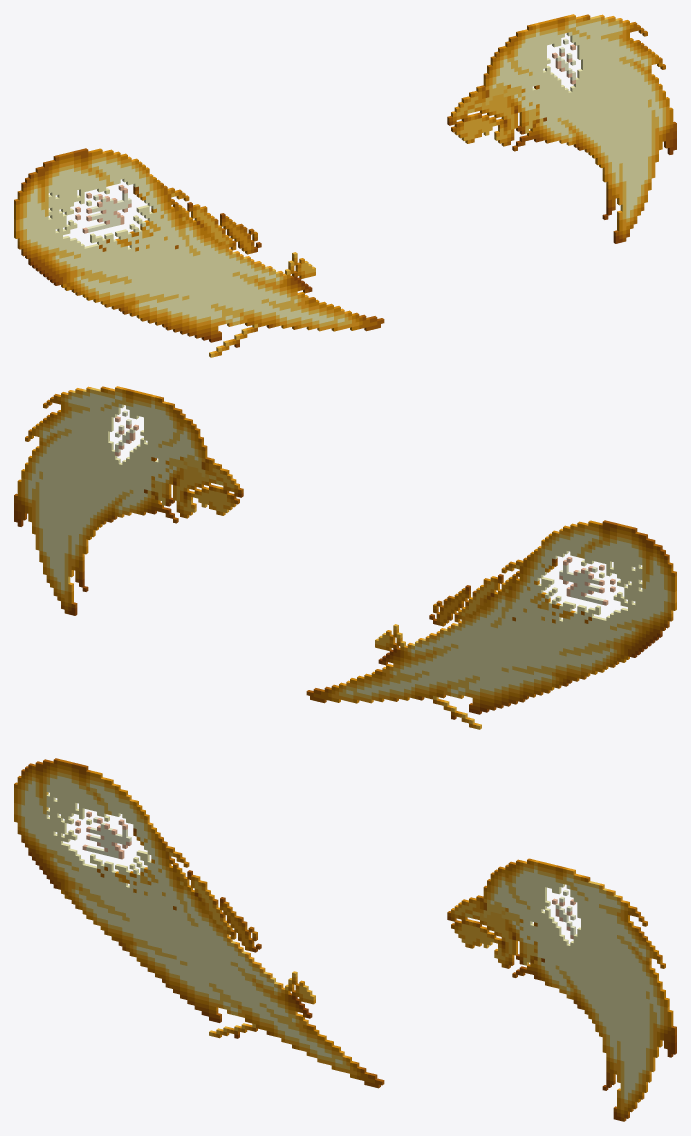
The model's file is Fight_756_2_13_fx.obj.
3 views of the same model, one above another, from view 1: azimuth 30°, elevation 25°; view 2: azimuth 150°, elevation 25°; view 3: azimuth 330°, elevation 25° (orthographic).
Bounding box in the file's own units: 18.3 × 7 × 0.1.
Materials: 1 (1 with a texture image).
